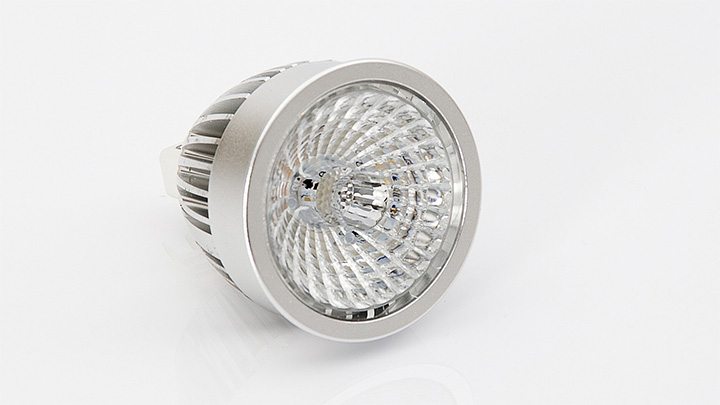Light_bulb: (158, 51, 489, 350)
